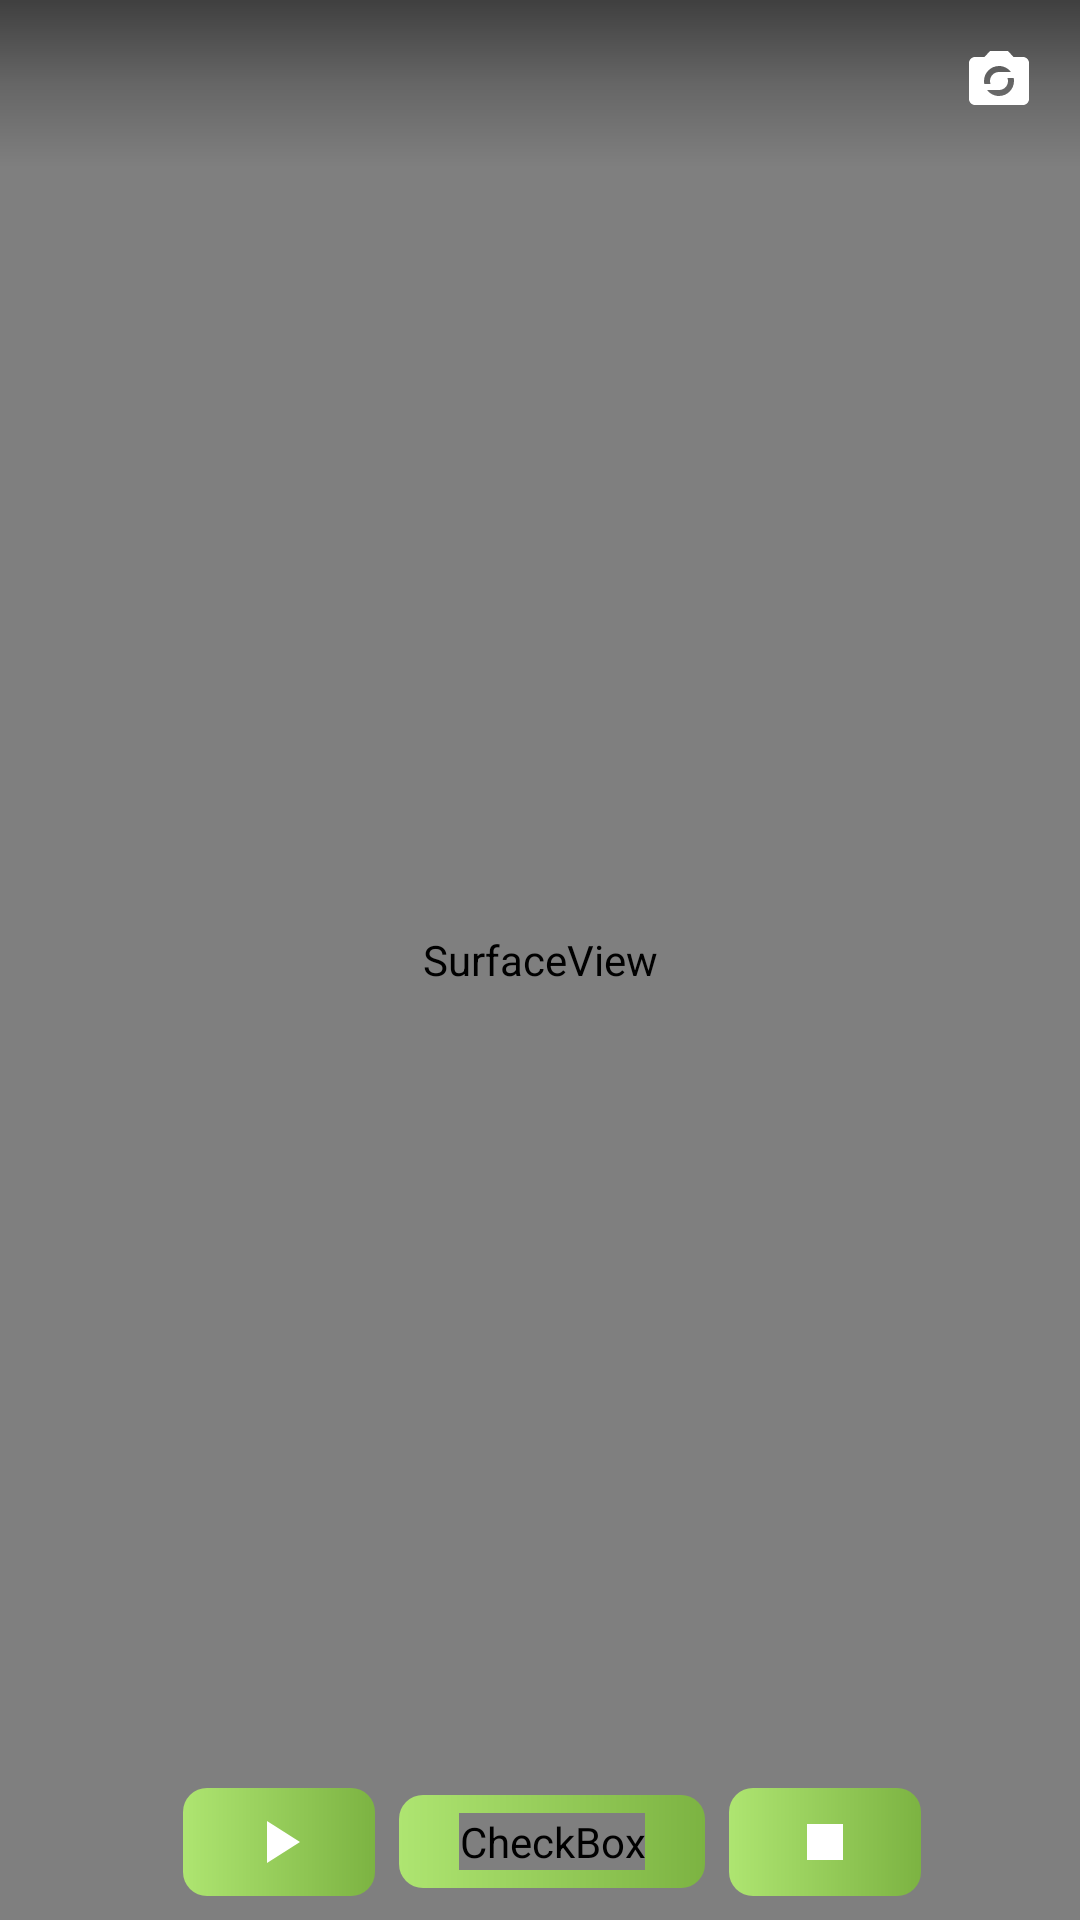

Named icons in this screenshot (1080px x 1920px) and their centers, (x=x, y=y):
play: (x=283, y=1842)
switch camera: (x=999, y=84)
